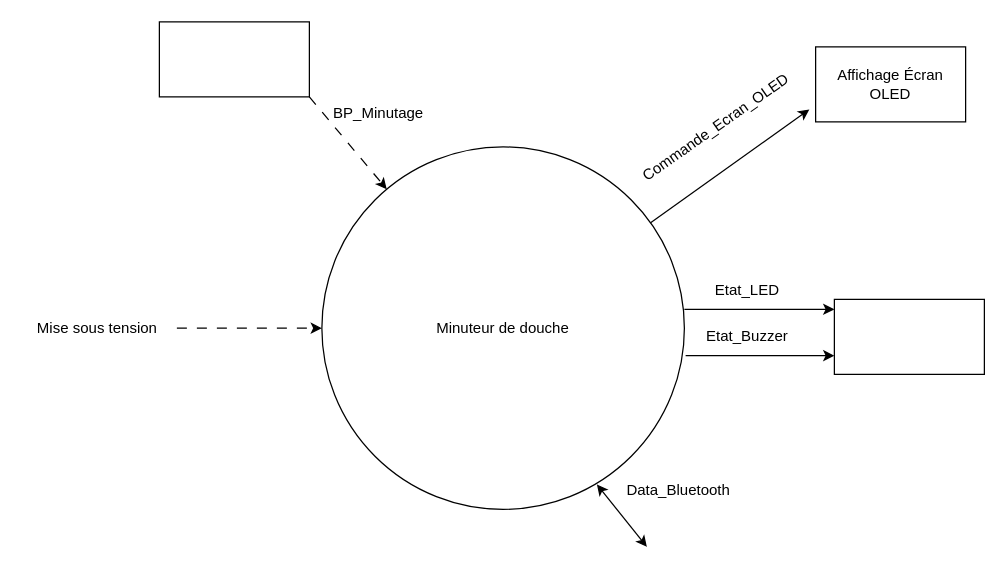
The diagram is 1006 pixels wide and 580 high, and some of its shapes have lost their labels. The shapes that lost their labels are listed below. From the top down, each one's centre as x and y in pixels, then its label:
the point at 233,59: Lancement_Minutage
the point at 908,336: Alertes
